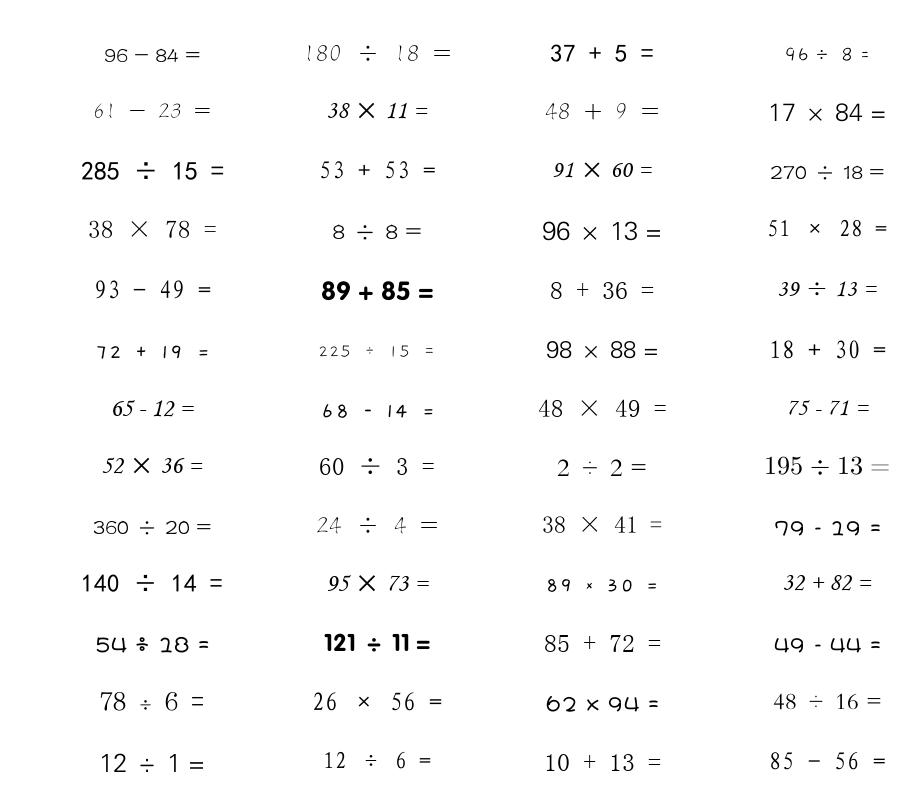MQ: (81, 161, 224, 180), (81, 574, 223, 593), (303, 45, 451, 62), (312, 692, 442, 711), (542, 221, 662, 241), (764, 456, 890, 475), (88, 220, 217, 238), (538, 399, 667, 417), (321, 281, 434, 301), (768, 103, 886, 122), (94, 280, 211, 299), (769, 340, 886, 359), (316, 516, 438, 534), (767, 219, 887, 237), (319, 161, 436, 179), (769, 752, 886, 770), (319, 457, 435, 475), (100, 691, 204, 711), (545, 102, 659, 120), (542, 516, 662, 533), (546, 341, 659, 359), (324, 633, 430, 652), (99, 753, 205, 772), (544, 635, 661, 652), (544, 754, 661, 771), (95, 636, 210, 653), (323, 751, 431, 769), (546, 695, 659, 712), (93, 103, 211, 119), (550, 44, 654, 62), (773, 693, 882, 710), (93, 520, 211, 535), (550, 282, 654, 299), (326, 575, 429, 592), (326, 102, 428, 119), (101, 457, 203, 474), (774, 520, 881, 536), (770, 165, 884, 180), (95, 345, 210, 359), (320, 404, 435, 418), (774, 638, 881, 653), (552, 162, 652, 178), (777, 281, 877, 297), (318, 345, 436, 358), (557, 459, 647, 476), (545, 579, 659, 592), (104, 48, 200, 63), (332, 224, 422, 240), (782, 575, 872, 591), (110, 400, 194, 417), (786, 400, 869, 416), (784, 47, 870, 62)
